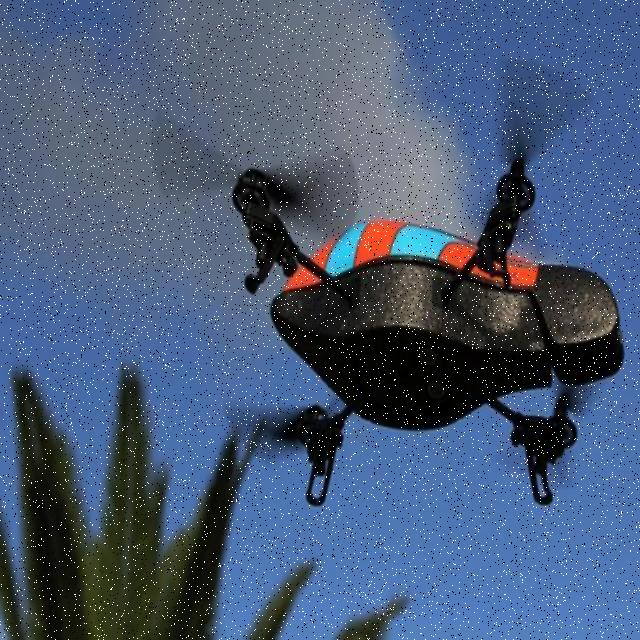UAV: (225, 143, 628, 513)
